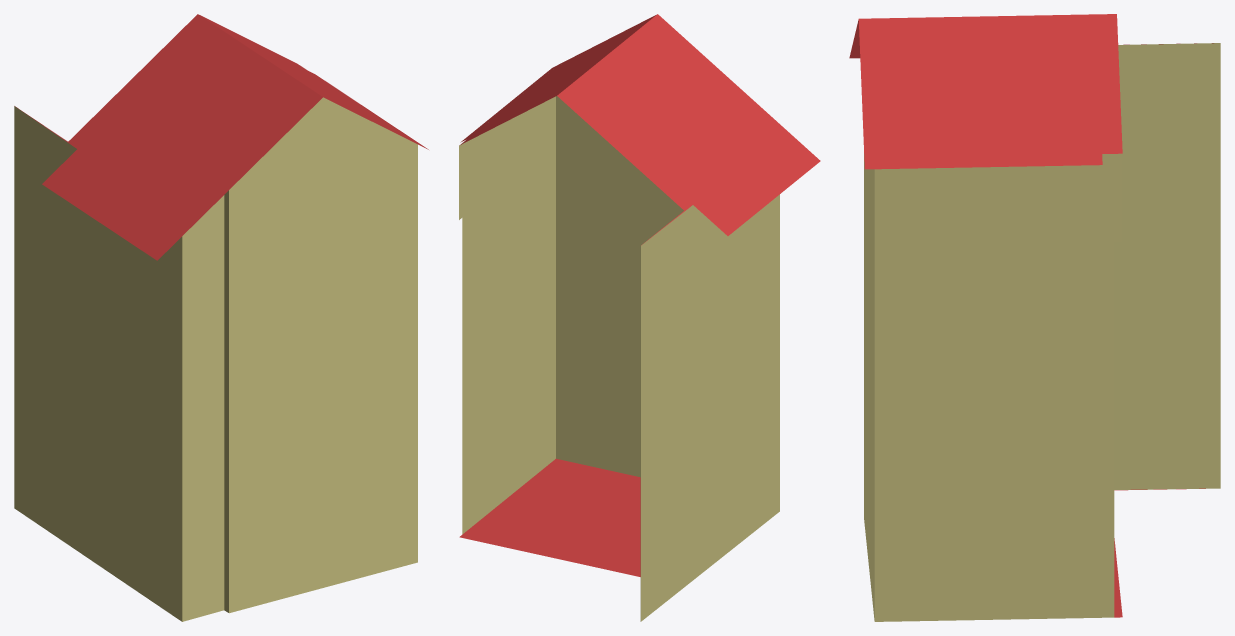
The picture shows the model from 3 angles, left to right: view 1: azimuth 30°, elevation 25°; view 2: azimuth 150°, elevation 25°; view 3: azimuth 270°, elevation 25°; orthographic projection. The views are drawn at different scales.
Bounding box in the file's own units: 8.98 × 9.05 × 14.74.
